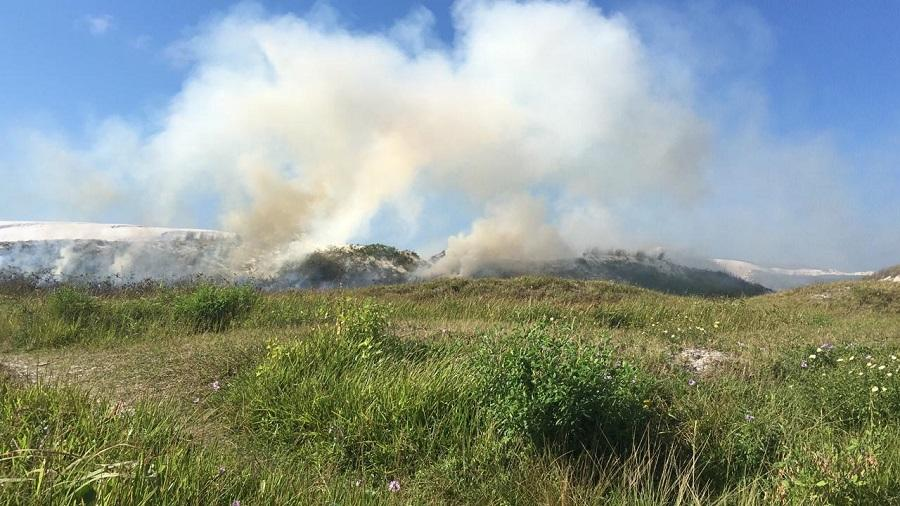smoke: (253, 44, 581, 169)
